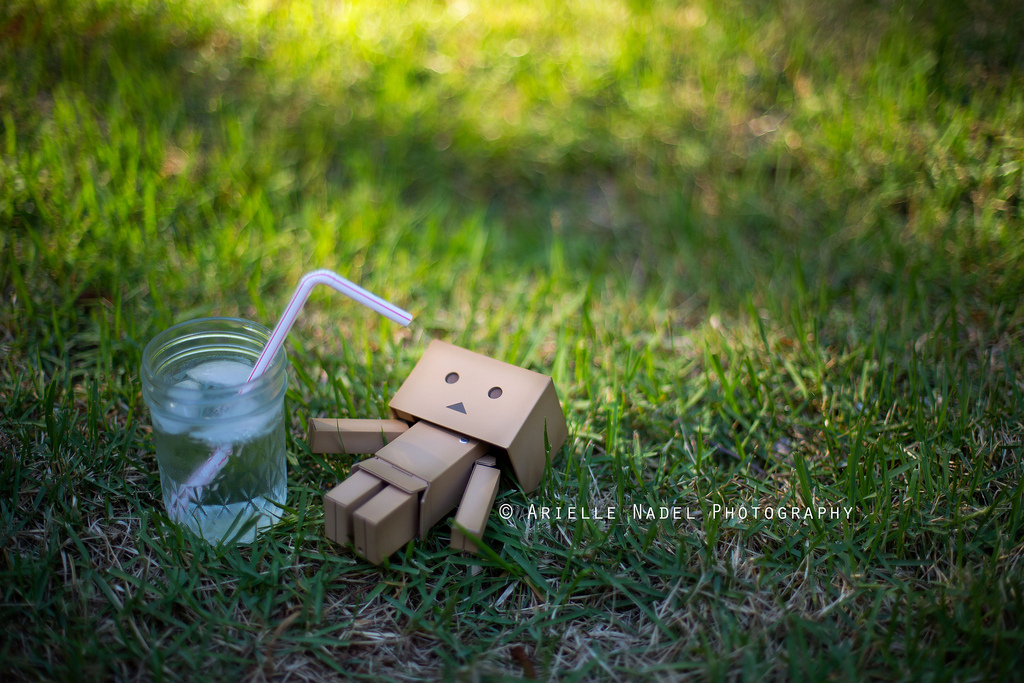glass of water: (138, 332, 303, 543)
